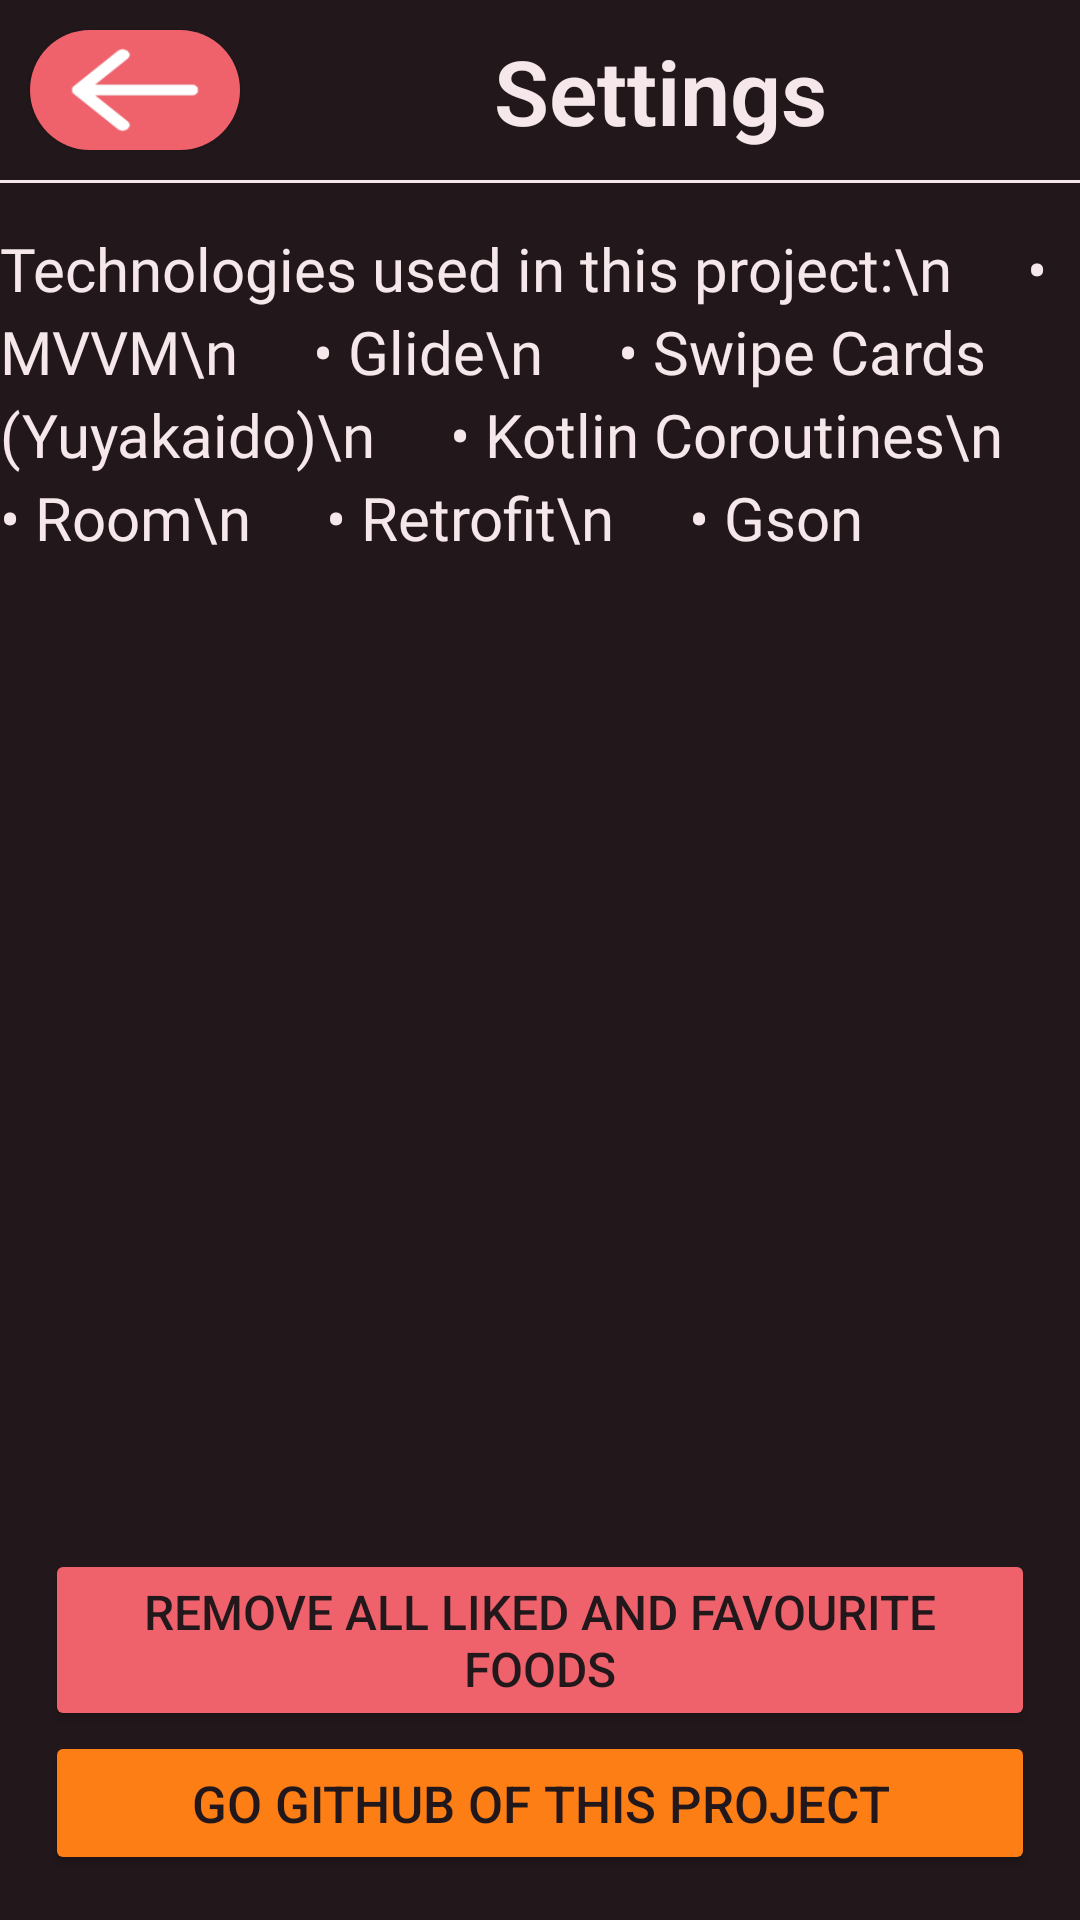

Icon click points for this 1080*1920 phone screenshot, format point (x, y):
back: point (135, 90)
